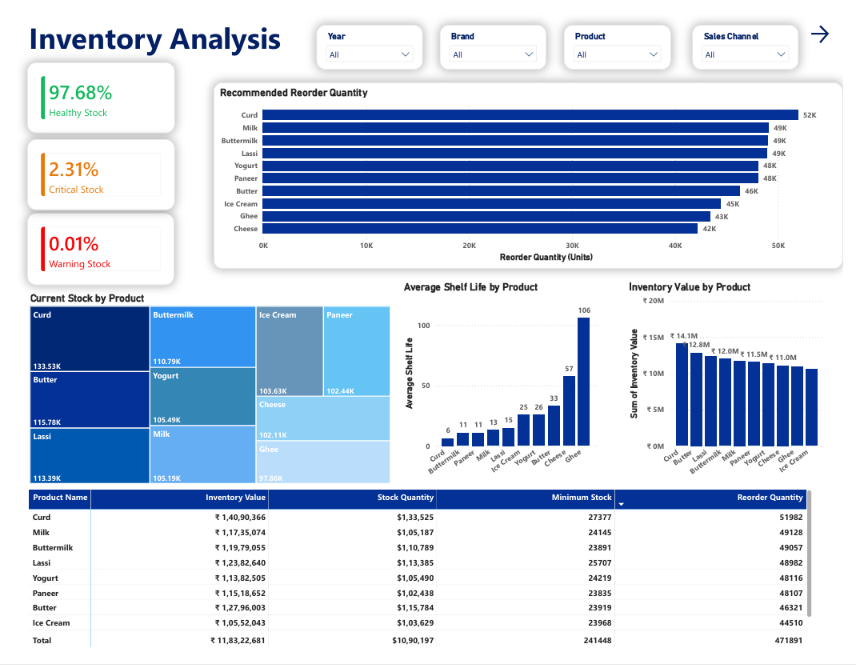

This screenshot's page, from the dashboard's own definition file:
{"tool":"powerbi","page":{"name":"Inventory Analysis","canvas":[1370,1050],"ordinal":3},"visuals":[{"type":"textbox","box":[20,0,480,80],"z":0},{"type":"slicer","fields":{"Values":["Calendar.Year"]},"box":[500,16.7,176.4,74.2],"z":1000,"group":"g1"},{"type":"treemap","title":"Current Stock by Product","fields":{"Group":["Fact_DairySales.Product Name"],"Values":["Measures (2).Total Stock"]},"box":[21.7,458.3,605,321.7],"z":1000},{"type":"slicer","fields":{"Values":["Fact_DairySales.Brand"]},"box":[703.5,16.7,176.4,74.2],"z":2000,"group":"g1"},{"type":"clusteredColumnChart","title":"Inventory Value by Product","fields":{"Category":["Fact_DairySales.Product Name"],"Y":["Sum(Fact_DairySales.Inventory Value)"]},"box":[1011.7,440,331.7,340],"z":2000},{"type":"slicer","fields":{"Values":["Fact_DairySales.Product Name"]},"box":[909.3,16.7,176.4,74.2],"z":3000,"group":"g1"},{"type":"clusteredBarChart","title":"Recommended Reorder Quantity","fields":{"Category":["Fact_DairySales.Product Name"],"Y":["Sum(Fact_DairySales.Reorder Quantity (liters/kg))"]},"box":[330,111.7,1040,308.3],"z":3000},{"type":"slicer","fields":{"Values":["Fact_DairySales.Sales Channel"]},"box":[1120.7,16.7,176.4,74.2],"z":4000,"group":"g1"},{"type":"cardVisual","fields":{"Data":["Measures (2).Healthy Stock %"]},"box":[22.2,78.9,243.3,116.7],"z":4000},{"type":"clusteredColumnChart","title":"Average Shelf Life by Product","fields":{"Y":["Measures (2).Average Shelf Life"],"Category":["Fact_DairySales.Product Name"]},"box":[640,440,328.3,340],"z":5000},{"type":"cardVisual","fields":{"Data":["Measures (2).Warning Stock %"]},"box":[21.7,328.3,243.3,118.3],"z":6000},{"type":"cardVisual","fields":{"Data":["Measures (2).Critical Stock %"]},"box":[22.2,205.6,243.3,117.8],"z":7000},{"type":"group","id":"g1","title":"Group 1","box":[500,16.7,795,75],"z":8000},{"type":"pivotTable","fields":{"Rows":["Fact_DairySales.Product Name"],"Values":["Sum(Fact_DairySales.Inventory Value)","Sum(Fact_DairySales.Stock Quantity)","Sum(Fact_DairySales.Minimum Stock Threshold (liters/kg))","Sum(Fact_DairySales.Reorder Quantity (liters/kg))"]},"box":[21.4,780,1302.9,270],"z":9000},{"type":"actionButton","box":[1311.7,13.3,48.3,38.3],"z":10000}]}

Visuals, with their boxes in screenshot pixels (x1, y1, x2, y2), scaled from the page's 1370x1050 canvas onto the 857x665 screenshot:
textbox: <bbox>13, 0, 313, 51</bbox>
slicer - Calendar.Year: <bbox>313, 11, 423, 58</bbox>
"Current Stock by Product" treemap: <bbox>14, 290, 392, 494</bbox>
slicer - Fact_DairySales.Brand: <bbox>440, 11, 550, 58</bbox>
"Inventory Value by Product" clusteredColumnChart: <bbox>633, 279, 840, 494</bbox>
slicer - Fact_DairySales.Product Name: <bbox>569, 11, 679, 58</bbox>
"Recommended Reorder Quantity" clusteredBarChart: <bbox>206, 71, 856, 266</bbox>
slicer - Fact_DairySales.Sales Channel: <bbox>701, 11, 811, 58</bbox>
cardVisual - Measures (2).Healthy Stock %: <bbox>14, 50, 166, 124</bbox>
"Average Shelf Life by Product" clusteredColumnChart: <bbox>400, 279, 606, 494</bbox>
cardVisual - Measures (2).Warning Stock %: <bbox>14, 208, 166, 283</bbox>
cardVisual - Measures (2).Critical Stock %: <bbox>14, 130, 166, 205</bbox>
"Group 1" group: <bbox>313, 11, 810, 58</bbox>
pivotTable - Fact_DairySales.Product Name x Sum(Fact_DairySales.Inventory Value): <bbox>13, 494, 828, 664</bbox>
actionButton: <bbox>821, 8, 851, 33</bbox>
